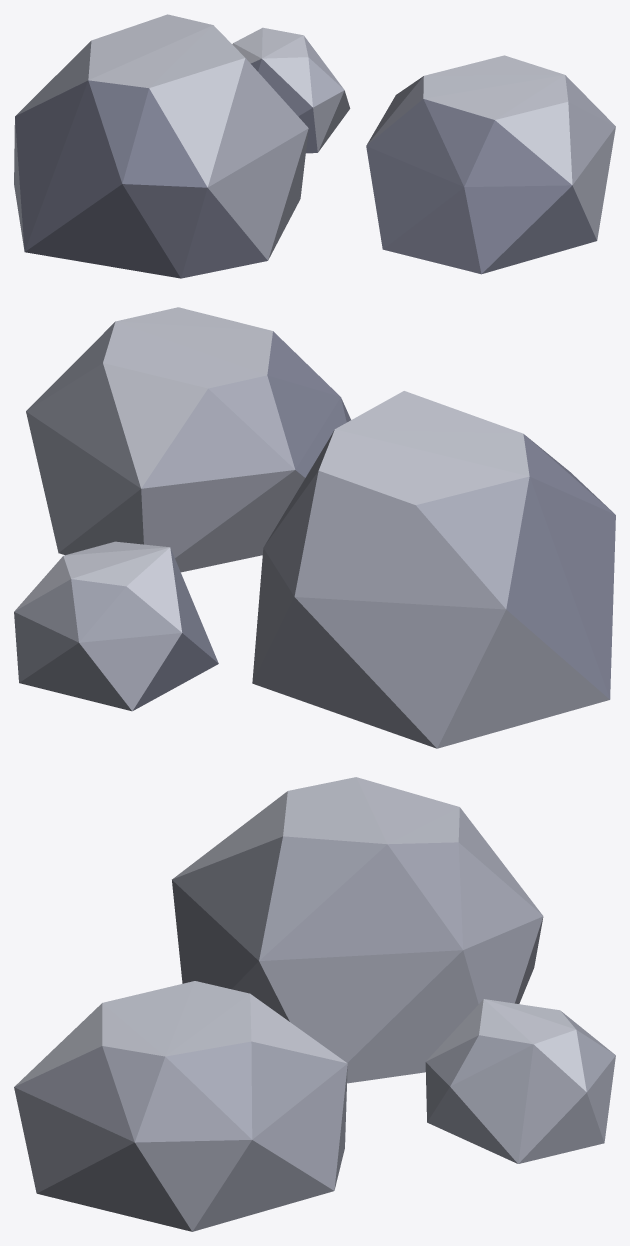
File: stone_largeC.glb
3 renders of one model, top to bottom at view 1: azimuth 30°, elevation 25°; view 2: azimuth 150°, elevation 25°; view 3: azimuth 270°, elevation 25°, orthographic. The views are drawn at different scales.
Parts seen in each view (by area): view 1: stone_largeC; view 2: stone_largeC; view 3: stone_largeC.
Part boxes in pixels (left/top/right/bottom): stone_largeC: left=14, top=14, right=615, bottom=278; stone_largeC: left=14, top=307, right=615, bottom=748; stone_largeC: left=14, top=777, right=615, bottom=1231.
Size of the model in its own units: 0.987 by 0.3181 by 0.8347.
1 material, 1 textured.
